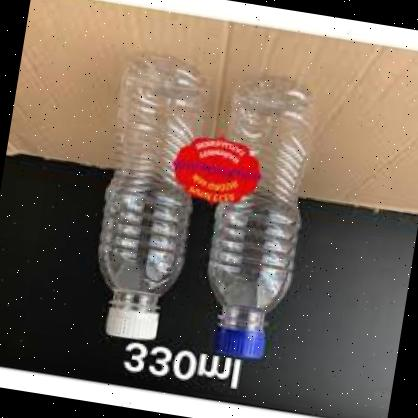bottle: (81, 46, 226, 352), (194, 70, 338, 372)
cap: (101, 299, 164, 346), (206, 319, 272, 363)
